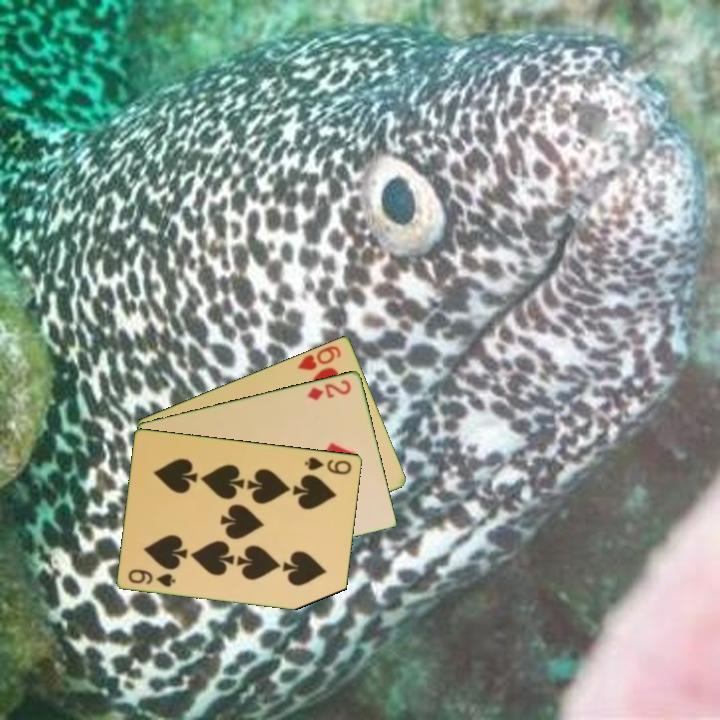2d: (304, 376, 354, 403)
6h: (295, 341, 344, 373)
9s: (125, 565, 179, 590), (301, 453, 355, 477)
